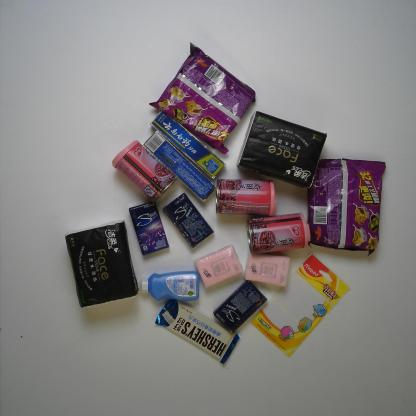Canned Food: (108, 138, 178, 204), (244, 209, 313, 256), (212, 175, 279, 218)
Chocolate: (152, 294, 244, 367)
Gum: (211, 276, 270, 336), (160, 190, 214, 249), (128, 202, 169, 257)
Instant Noodles: (148, 38, 260, 156), (301, 155, 388, 257)
Personal Hygiene: (146, 108, 226, 179), (143, 130, 216, 206), (135, 269, 201, 303)
Stationery: (247, 250, 353, 360)
Tissue: (235, 109, 331, 191), (63, 218, 141, 310), (193, 244, 244, 289), (242, 248, 291, 288)
